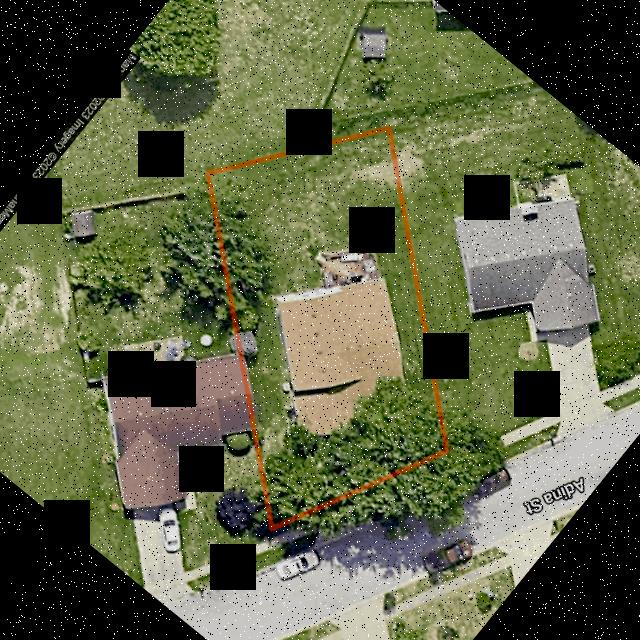Extra Driveway: (312, 526, 360, 549)
Extra Lawn: (274, 530, 319, 562), (271, 511, 318, 539)
Extra Sidewalk: (273, 521, 319, 547)
House: (277, 278, 402, 434)
Other: (315, 248, 378, 288)
